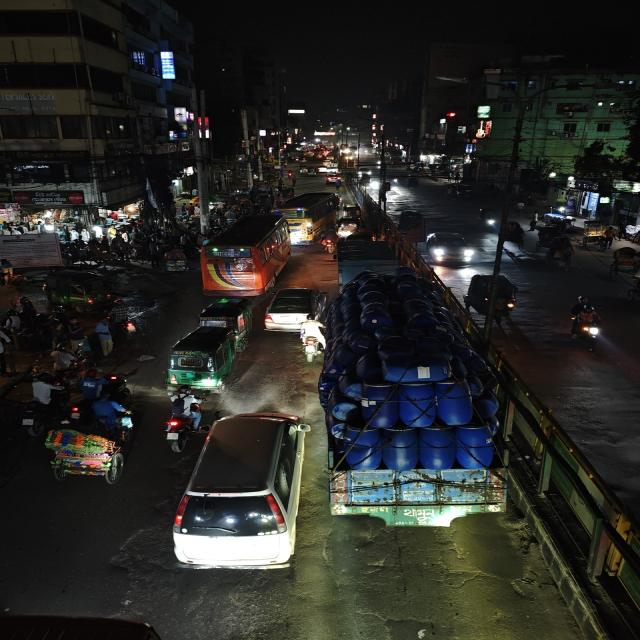bus: (198, 212, 293, 299), (278, 190, 340, 242)
car: (172, 410, 312, 576), (261, 285, 326, 335), (420, 229, 479, 267)
cng: (164, 326, 242, 392), (42, 268, 118, 309), (465, 272, 520, 322), (195, 297, 253, 333), (336, 216, 362, 237), (341, 202, 364, 220)
motorcycle: (159, 389, 203, 446), (567, 296, 609, 354), (320, 230, 339, 254)
pedestrian: (48, 343, 76, 377), (92, 319, 117, 356), (0, 333, 11, 376)
pickup_van: (323, 278, 500, 533)
rickshaw: (41, 416, 132, 487), (606, 245, 640, 278), (545, 237, 578, 271), (160, 246, 190, 275), (504, 222, 529, 250), (476, 205, 502, 231), (625, 270, 640, 314), (0, 255, 17, 286), (445, 182, 461, 200)
truck: (330, 232, 404, 280)
